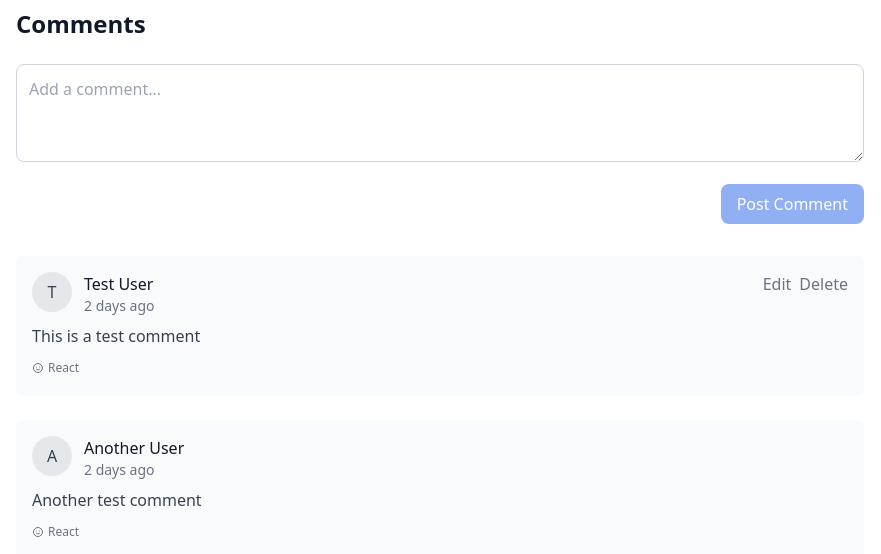
Test: Comments Component › allows deleting a comment by the comment owner
This screenshot has width=881, height=554.
# Click delete
Click the button "Delete".
click(824, 284)  # box 799,272 -> 848,296
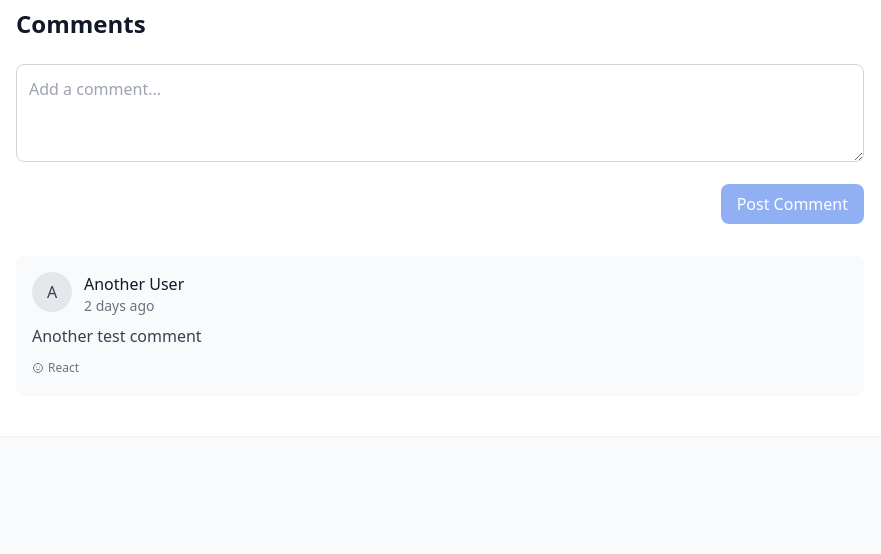
Expected: the text "Another test comment" is shown, 32,325 -> 202,347
Expected: the text "This is a test comment" is gone
